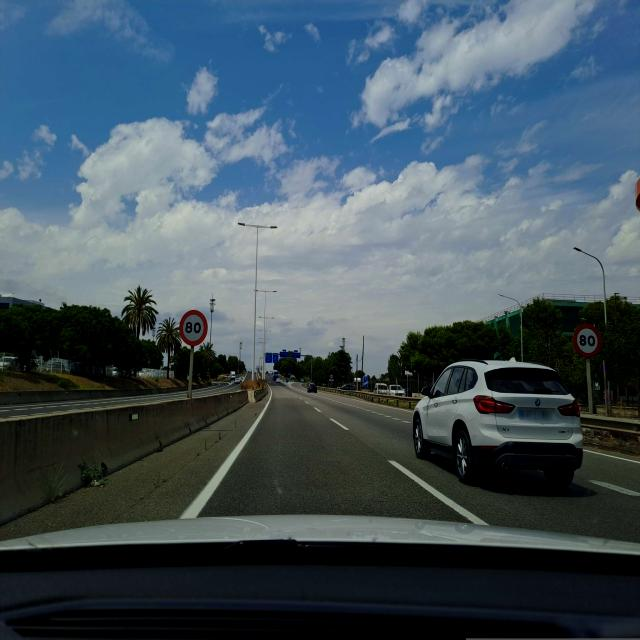car: (412, 356, 584, 488), (388, 383, 407, 397), (307, 382, 318, 393), (232, 376, 242, 385)
